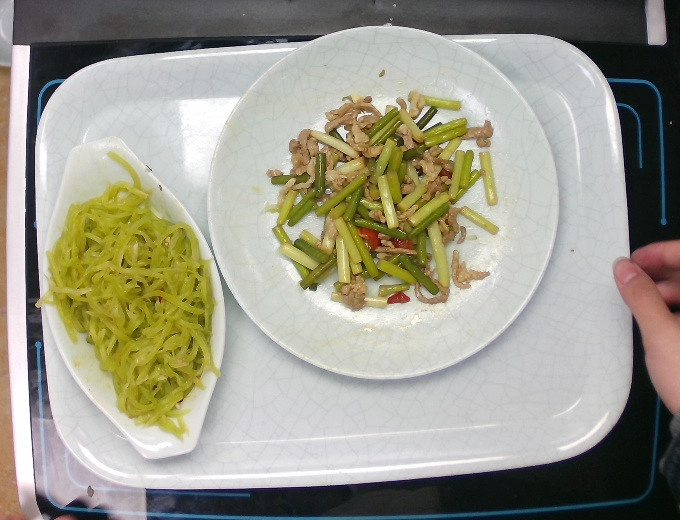JYsf-Da_Yuan_Pan: (208, 21, 564, 377)
JYsf-Yu_Pan: (43, 131, 223, 467)
